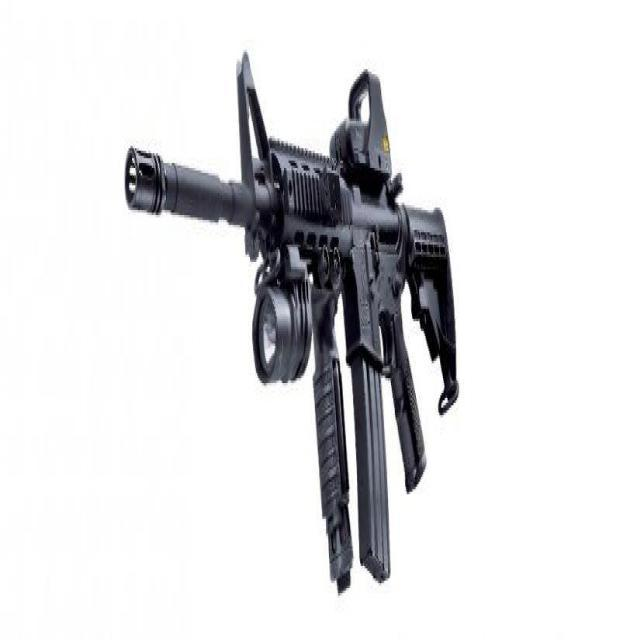weapon: (122, 44, 460, 603)
